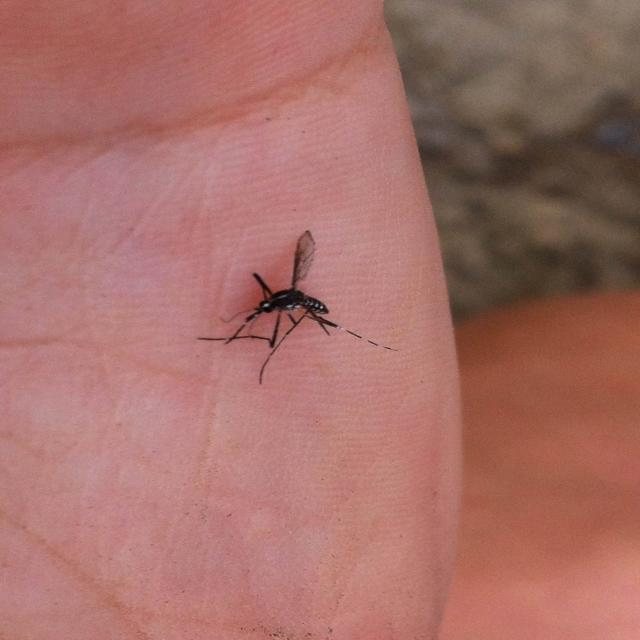albopictus: (199, 223, 400, 390)
